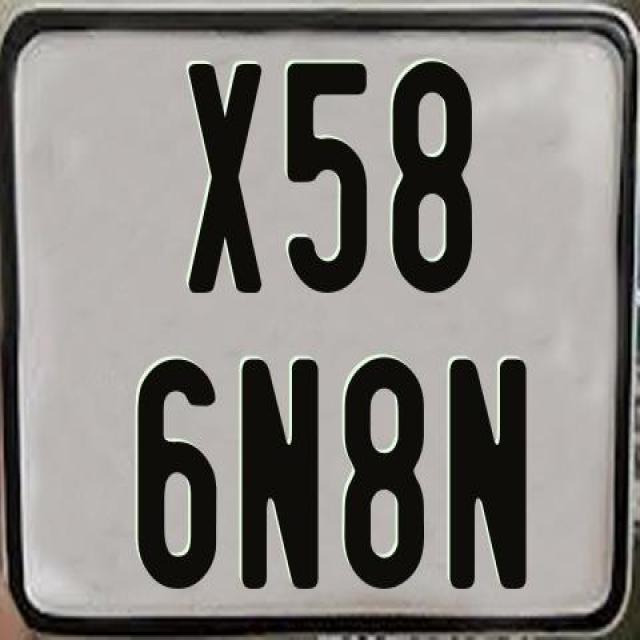5: (286, 62, 368, 298)
6: (138, 360, 222, 592)
8: (392, 56, 477, 291), (342, 355, 422, 587)
N: (240, 358, 324, 594), (446, 358, 524, 592)
X: (186, 61, 262, 296)
